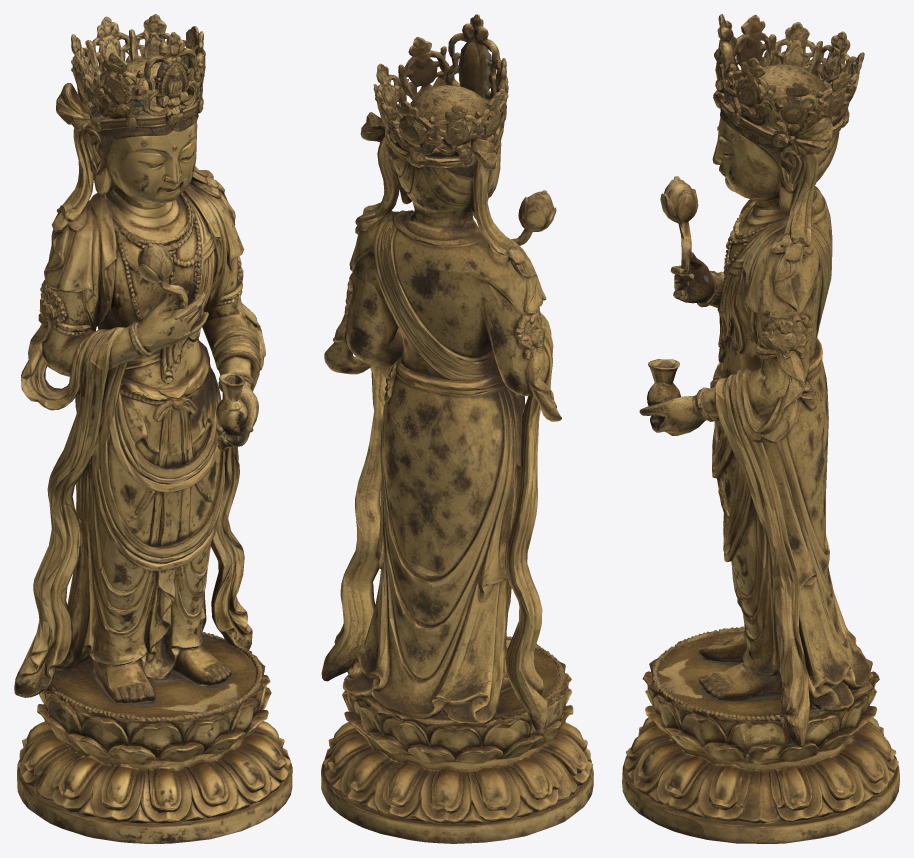
The model's file is Meshy_AI_Korean_style_standing_1116074237_texture.glb.
3 views of the same model, side by side, from view 1: azimuth 30°, elevation 25°; view 2: azimuth 150°, elevation 25°; view 3: azimuth 270°, elevation 25° (orthographic).
Parts seen in each view (by area): view 1: output_unwrapped; view 2: output_unwrapped; view 3: output_unwrapped.
Part boxes in pixels (x1,y1,x2,y2): output_unwrapped: (14,14,292,843); output_unwrapped: (321,14,593,843); output_unwrapped: (622,14,899,843).
Bounding box in the file's own units: 0.6212 × 1.9 × 0.6193.
1 material, 1 textured.
